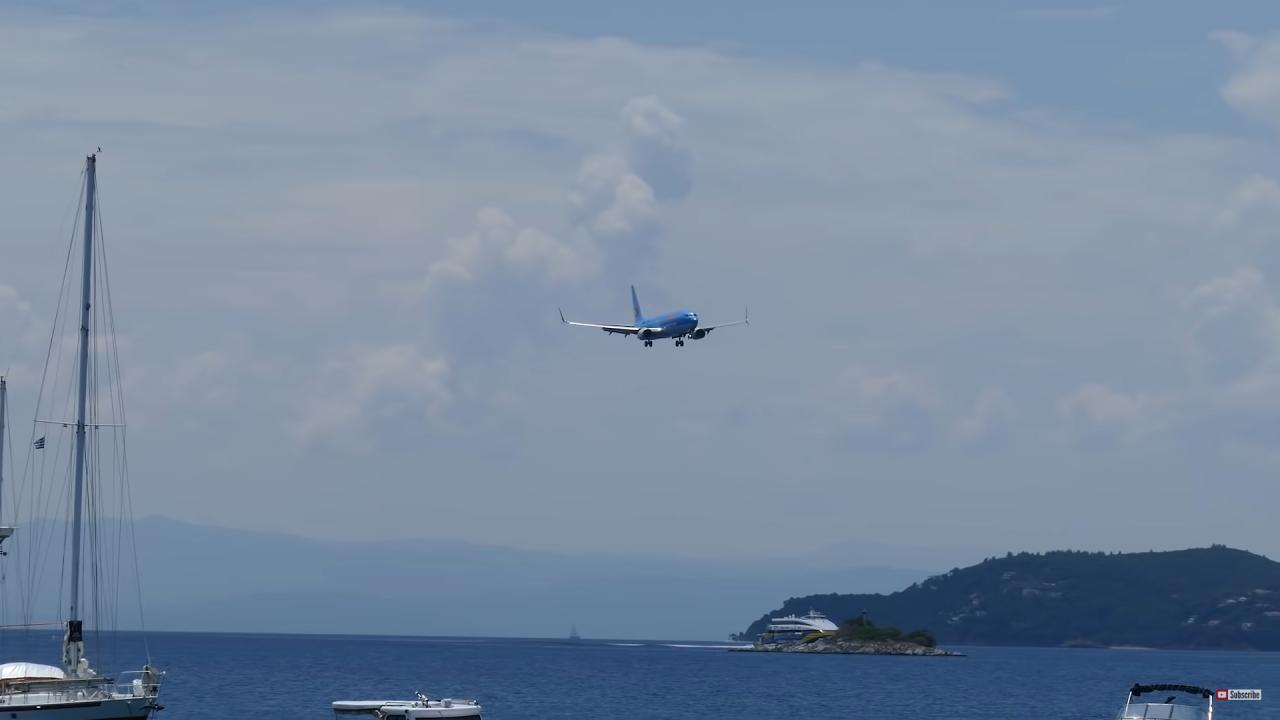Airplane: (552, 270, 734, 356)
